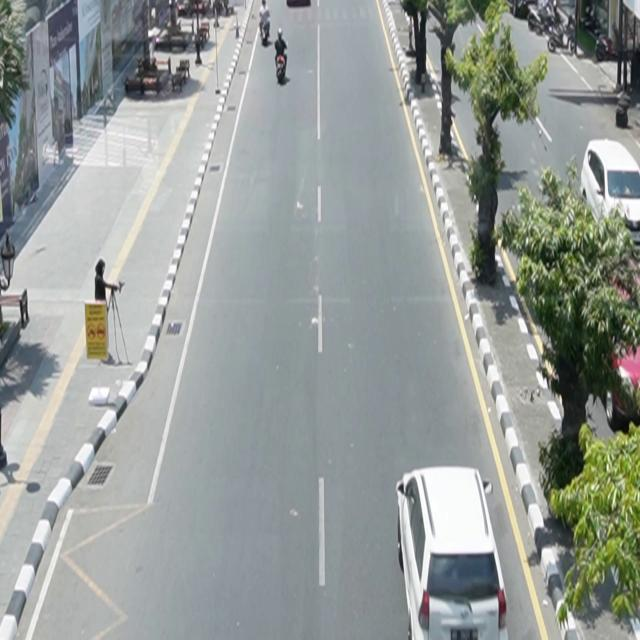car: (397, 467, 510, 640), (581, 138, 640, 245)
